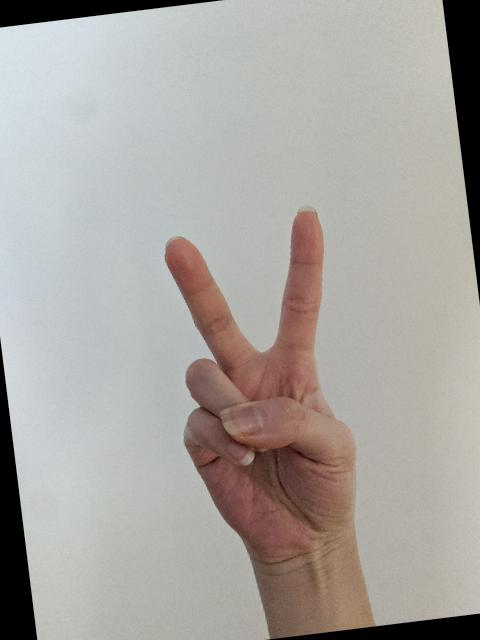V: (153, 199, 376, 582)
